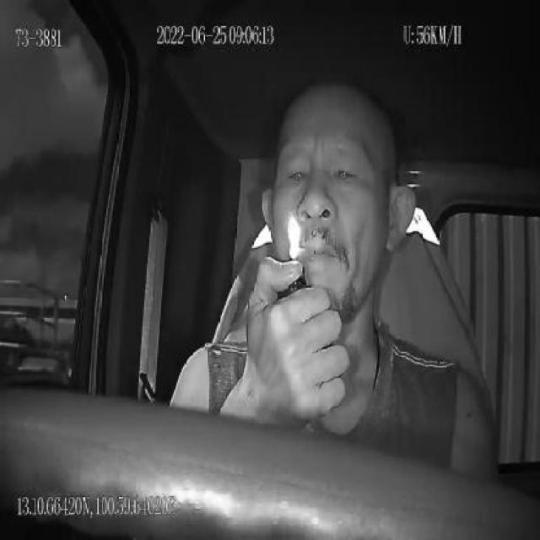smoking: (289, 245, 321, 260)
